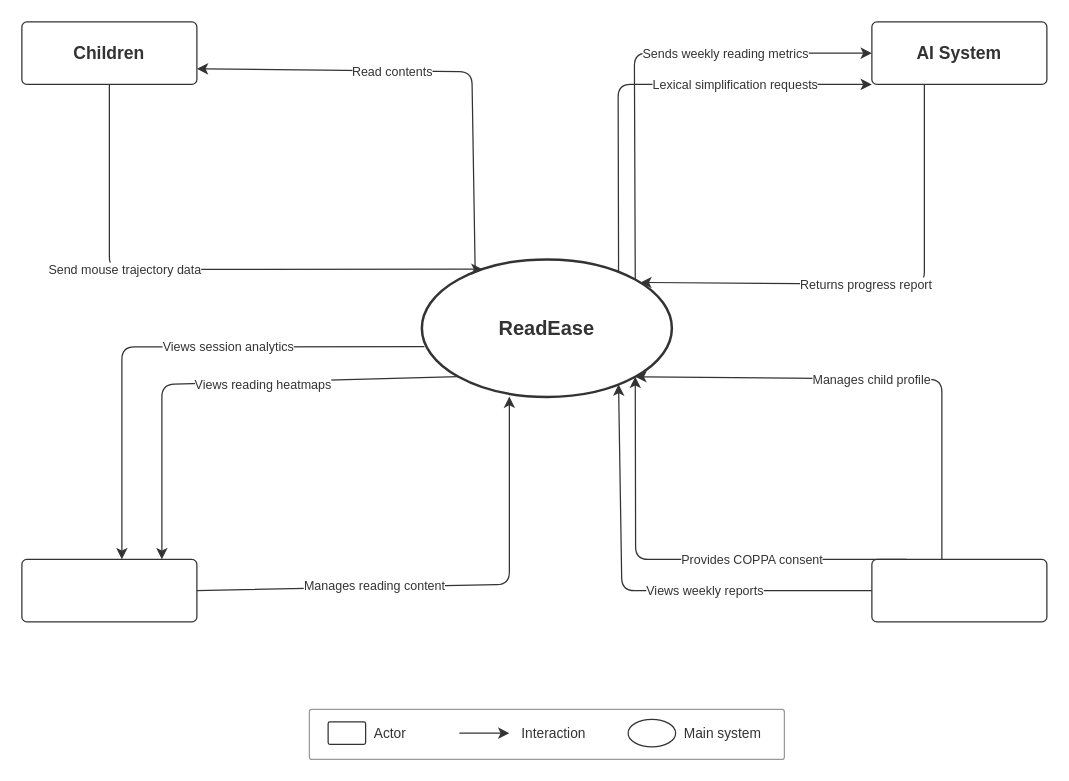
The diagram is 1069 pixels wide and 781 high, and some of its shapes have lost their labels. The shapes that lost their labels are listed below. From the top down, each one's centre as x and y in pixels, then its label:
At (x=109, y=590): "Clinician".
At (x=959, y=590): "Guardian".
